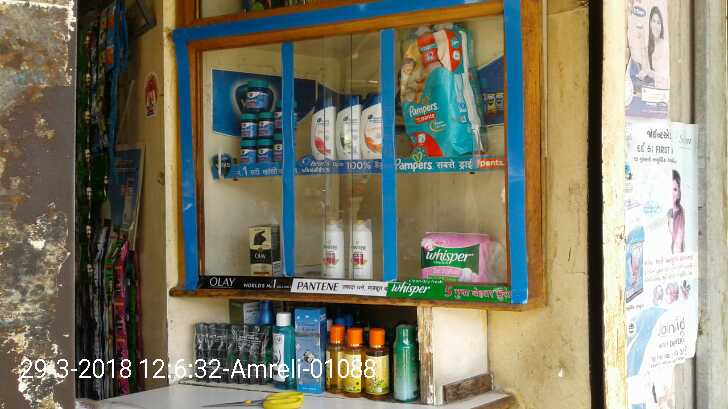vicks: (236, 78, 282, 159)
